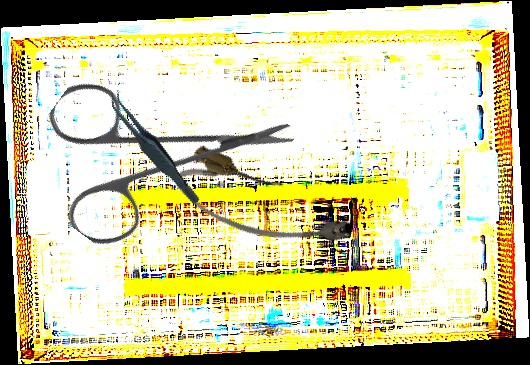Cannula: (165, 140, 362, 274)
Iris Scissors: (3, 6, 299, 303)
Tissue Forceps: (106, 79, 201, 217)
